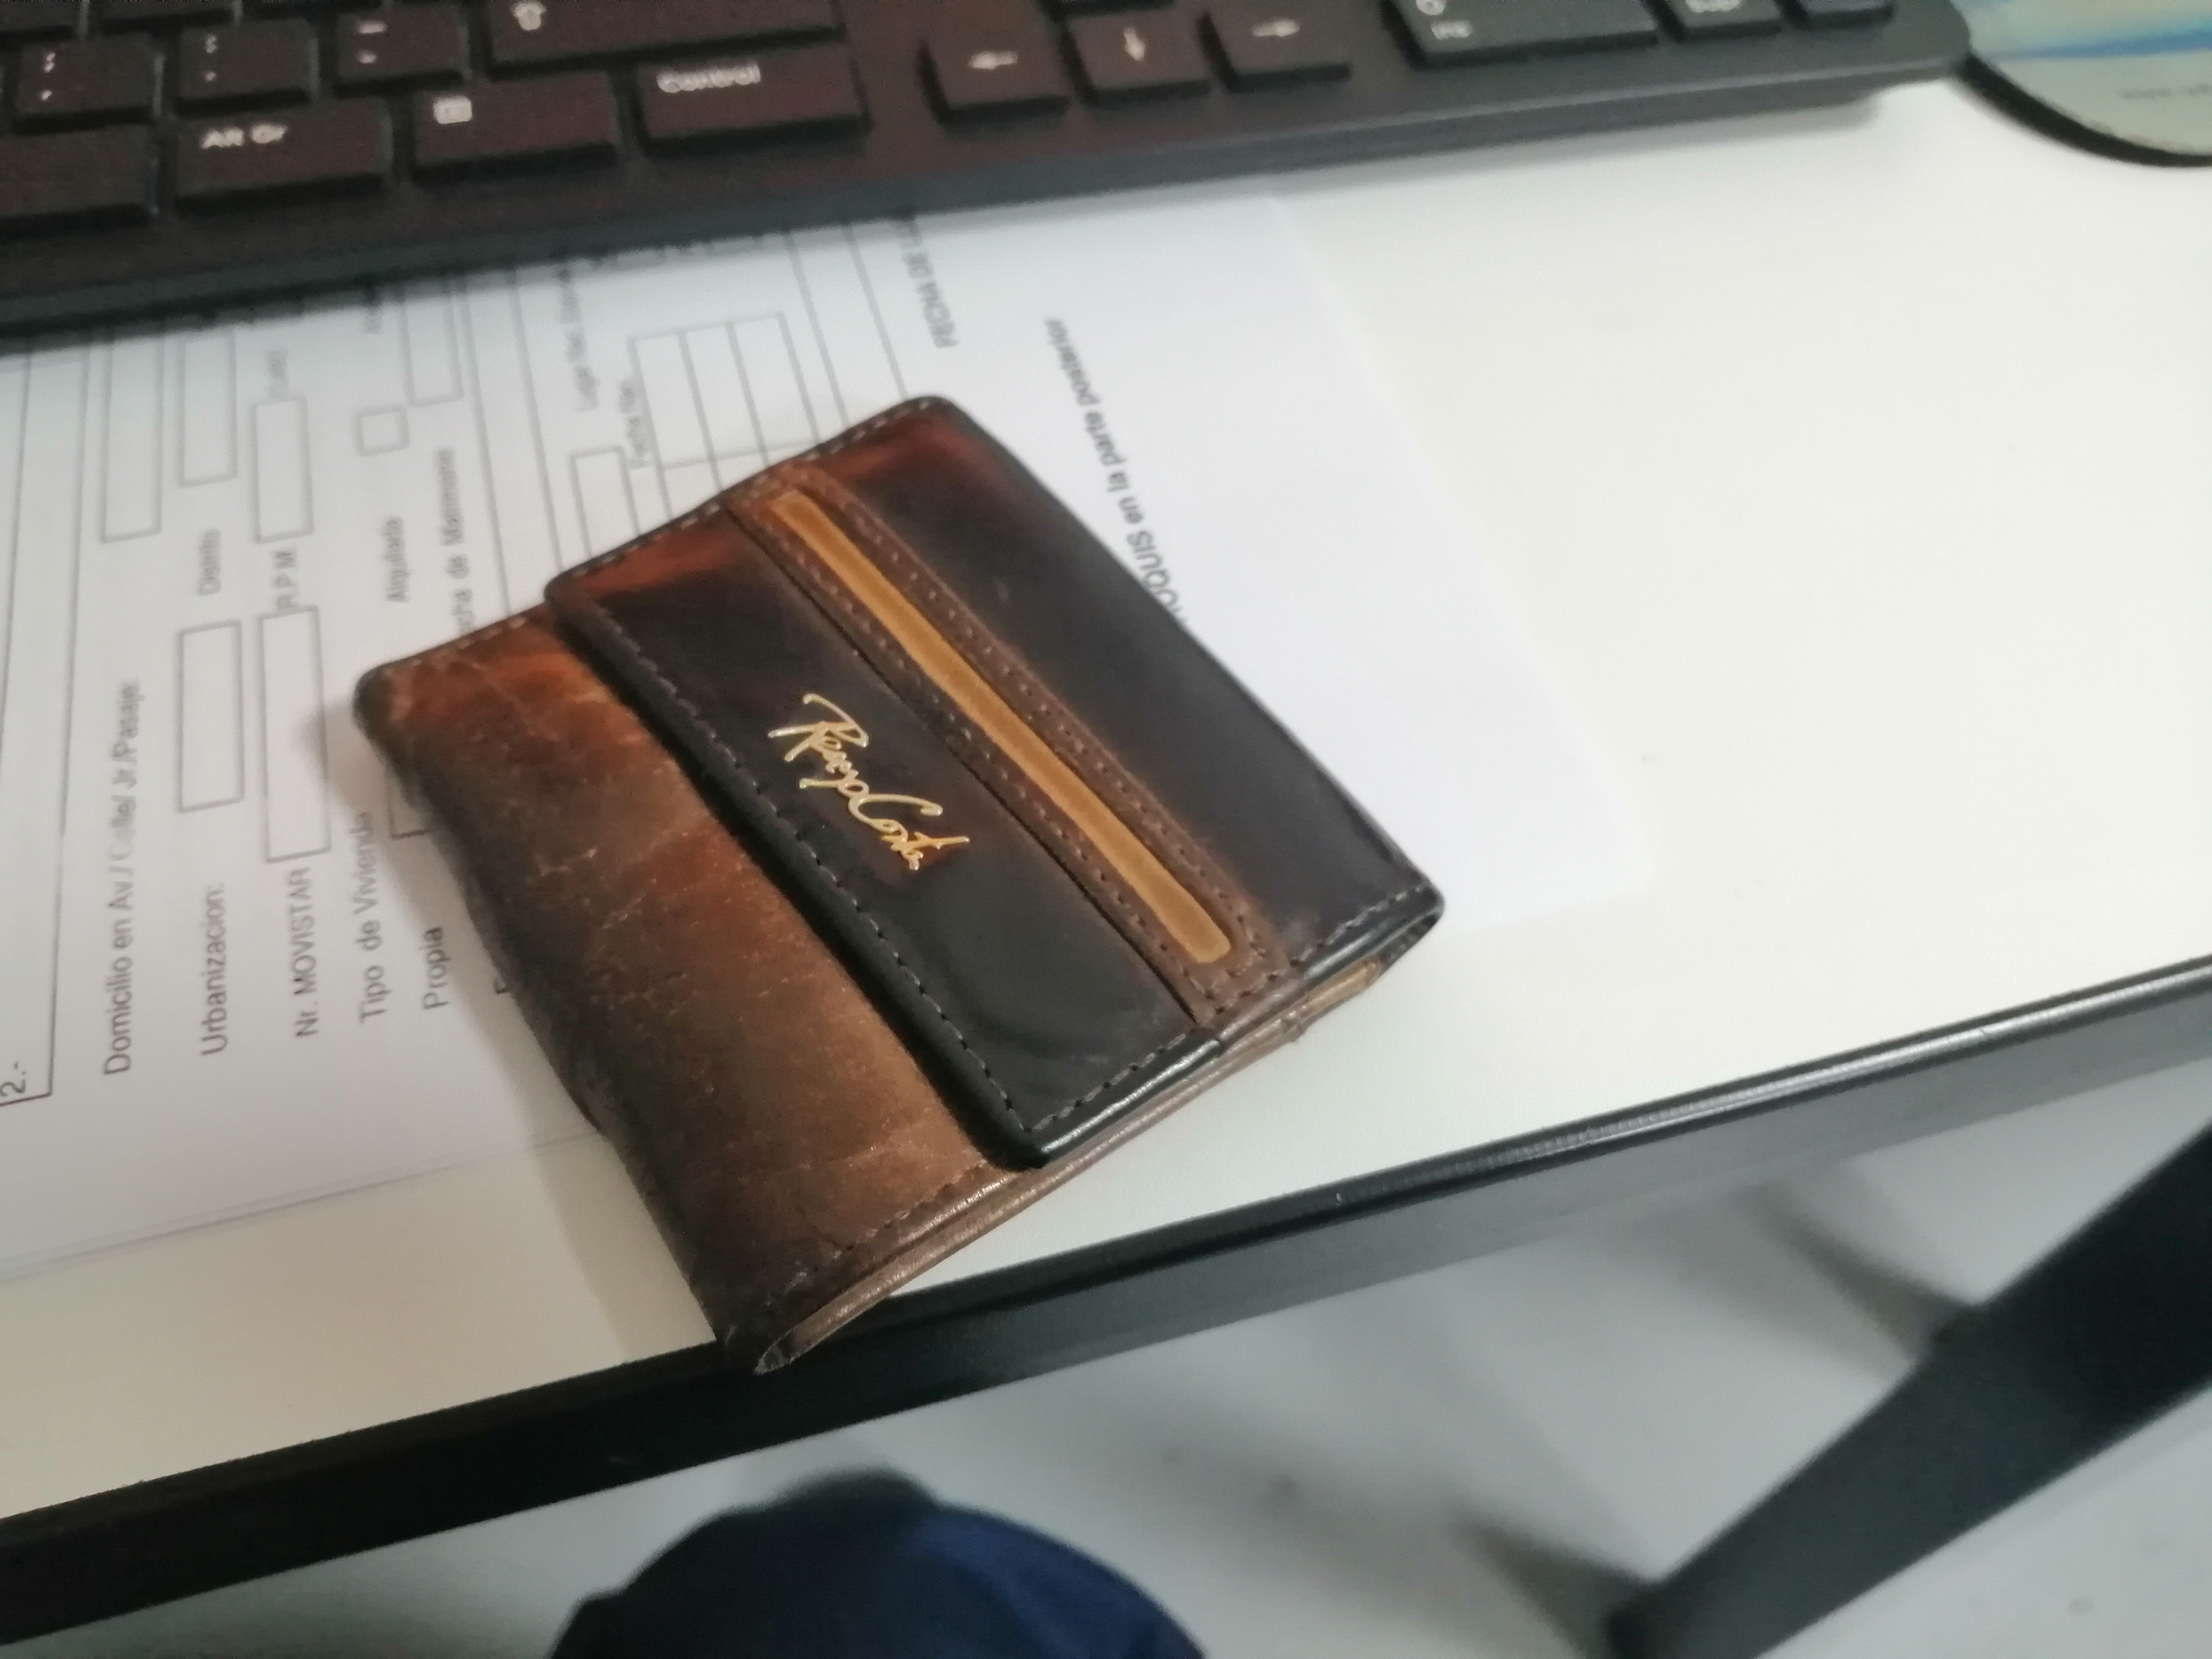monedero: (336, 359, 1496, 1401)
